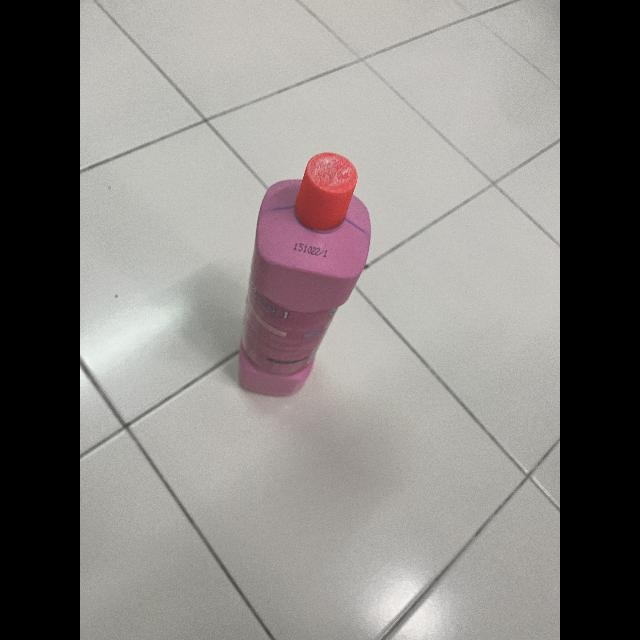chemical_plastic_bottle: (234, 149, 374, 393)
